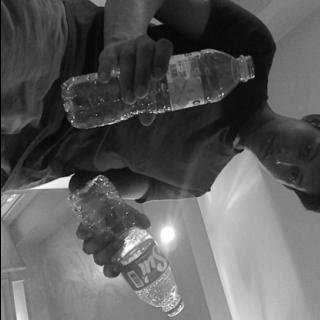plastic_bottles: (66, 175, 186, 317), (60, 48, 256, 132)
